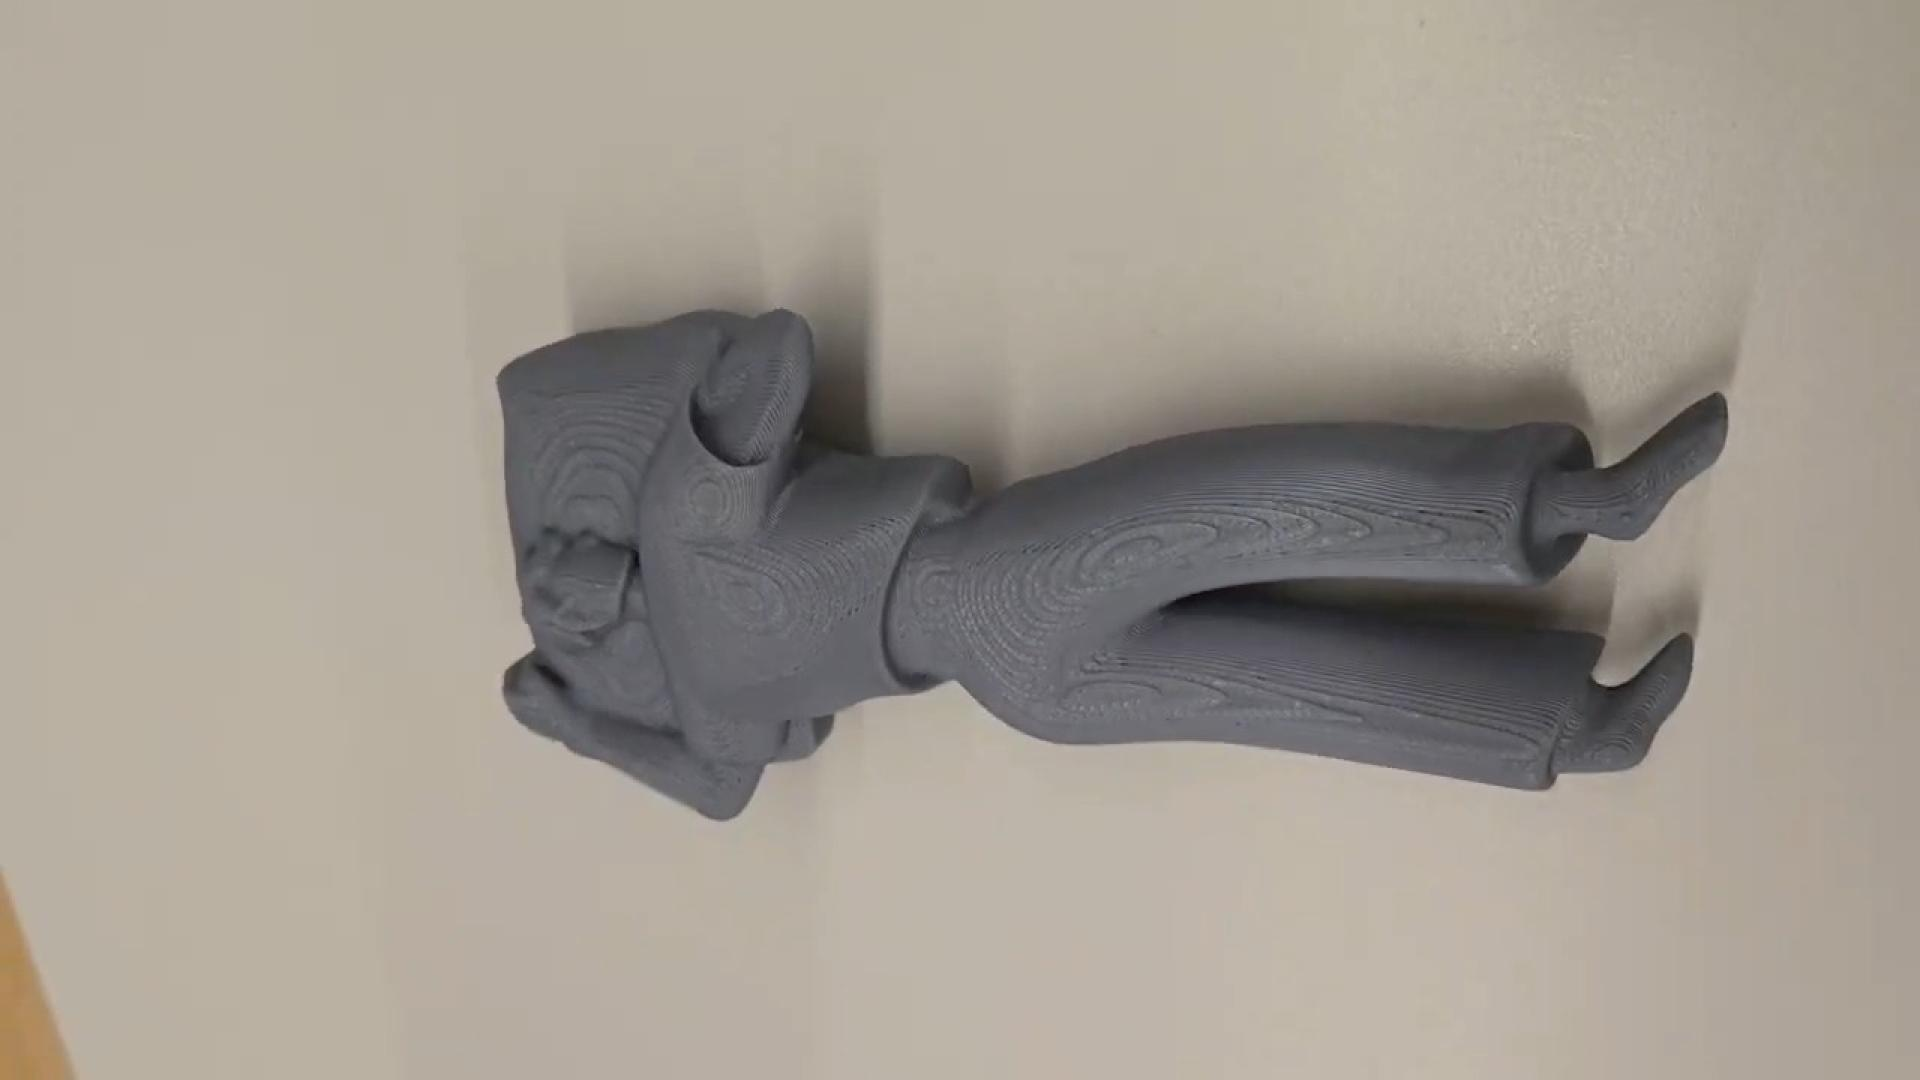Bad-style: (496, 298, 1746, 828)
